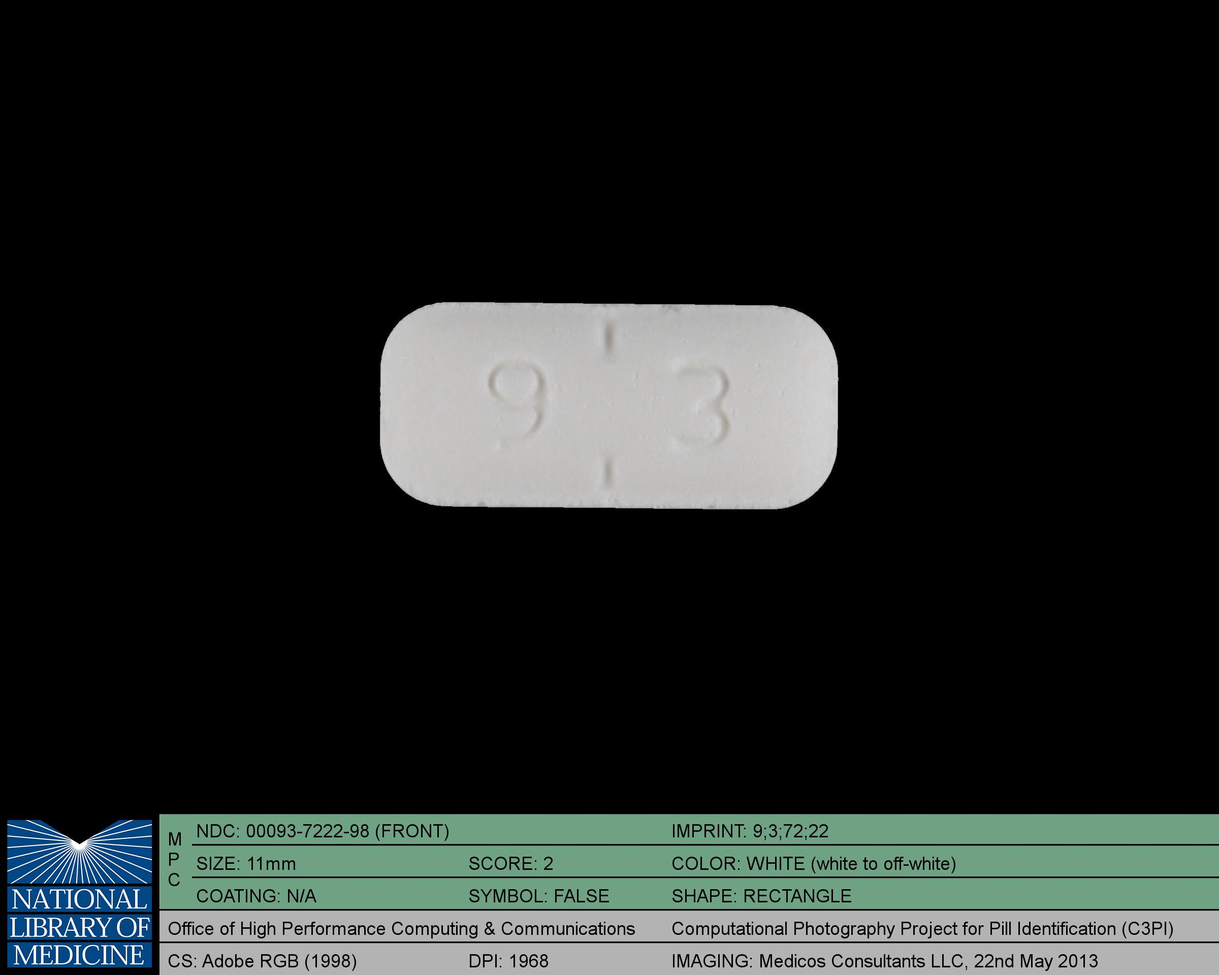Pill: (369, 291, 850, 521)
